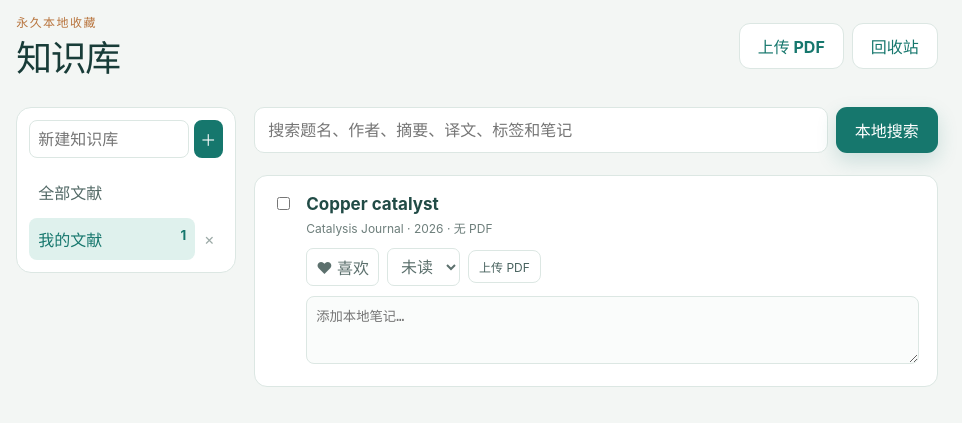
LibraryPage › loads local papers and autosaves a note after editing
The image size is (962, 423).
Expected: the heading "Copper catalyst" is shown, x1=306 y1=194 x2=439 y2=214
Step 1. Type "local insight" into the text box named "Copper catalyst笔记" → (612, 330), box x1=306 y1=296 x2=919 y2=364
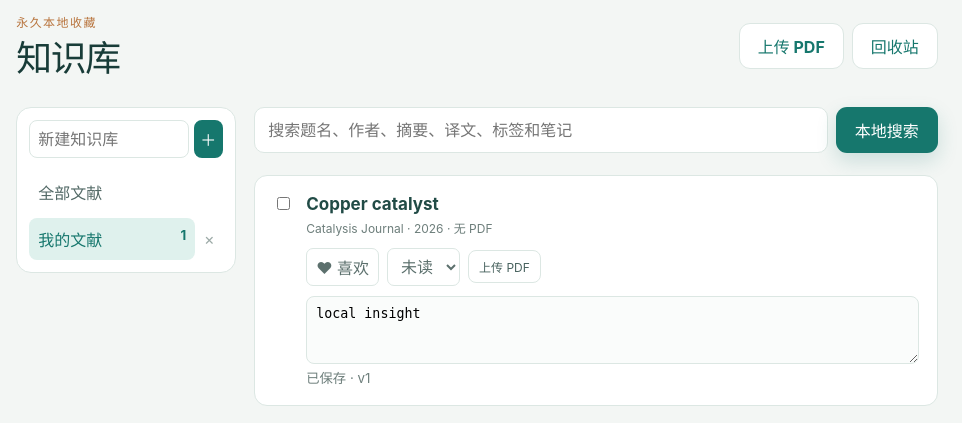
Result: the text "已保存 · v1" is shown at x1=306 y1=370 x2=370 y2=386
